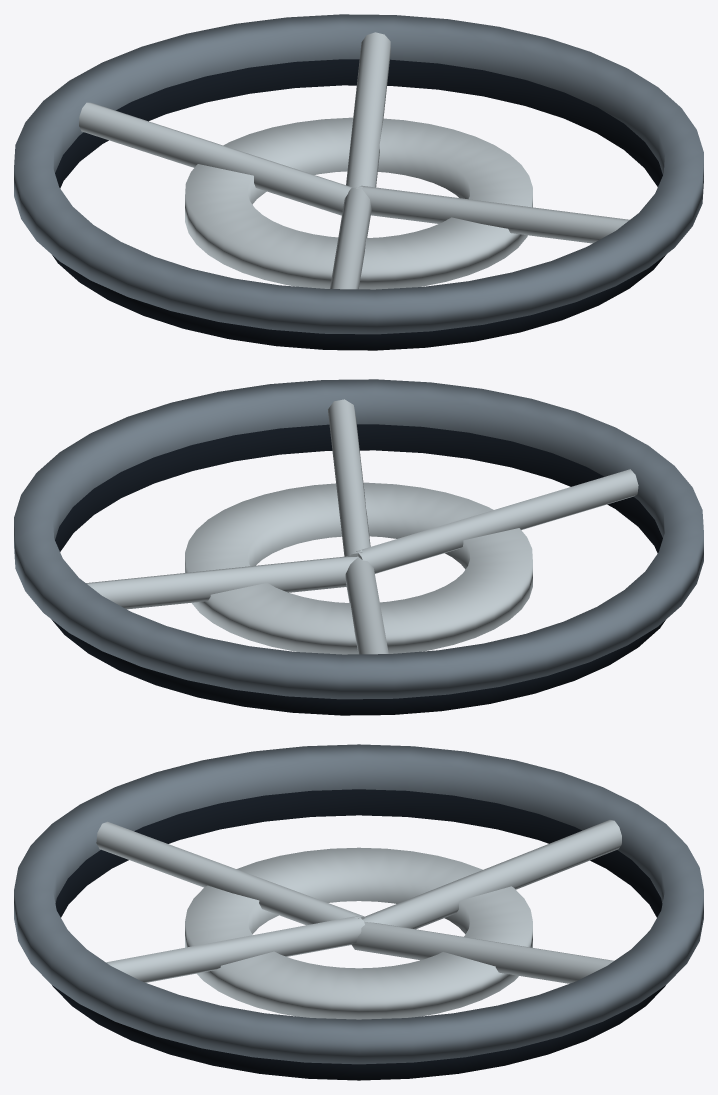
Rendered from titan_stage_2_engine_frame.glb.
The picture shows the model from 3 angles, top to bottom: view 1: azimuth 30°, elevation 25°; view 2: azimuth 150°, elevation 25°; view 3: azimuth 270°, elevation 25°; orthographic projection.
Visible parts, largest first — view 1: titan_stage_2_engine_frame.mesh_Machined_steel, titan_stage_2_engine_frame.mesh_Satin_aluminum, titan_stage_2_engine_frame.mesh_Shadowed_interior; view 2: titan_stage_2_engine_frame.mesh_Machined_steel, titan_stage_2_engine_frame.mesh_Satin_aluminum, titan_stage_2_engine_frame.mesh_Shadowed_interior; view 3: titan_stage_2_engine_frame.mesh_Machined_steel, titan_stage_2_engine_frame.mesh_Satin_aluminum, titan_stage_2_engine_frame.mesh_Shadowed_interior.
Boxes of the visible parts, x1,y1,x2,y2 form: titan_stage_2_engine_frame.mesh_Machined_steel: (14,14,703,334); titan_stage_2_engine_frame.mesh_Satin_aluminum: (79,32,629,289); titan_stage_2_engine_frame.mesh_Shadowed_interior: (52,59,666,350); titan_stage_2_engine_frame.mesh_Machined_steel: (14,379,703,699); titan_stage_2_engine_frame.mesh_Satin_aluminum: (86,399,638,654); titan_stage_2_engine_frame.mesh_Shadowed_interior: (51,424,665,715); titan_stage_2_engine_frame.mesh_Machined_steel: (14,744,703,1064); titan_stage_2_engine_frame.mesh_Satin_aluminum: (96,820,621,1019); titan_stage_2_engine_frame.mesh_Shadowed_interior: (52,789,665,1080).
Bounding box in the file's own units: 3.03 × 0.285 × 3.03.
